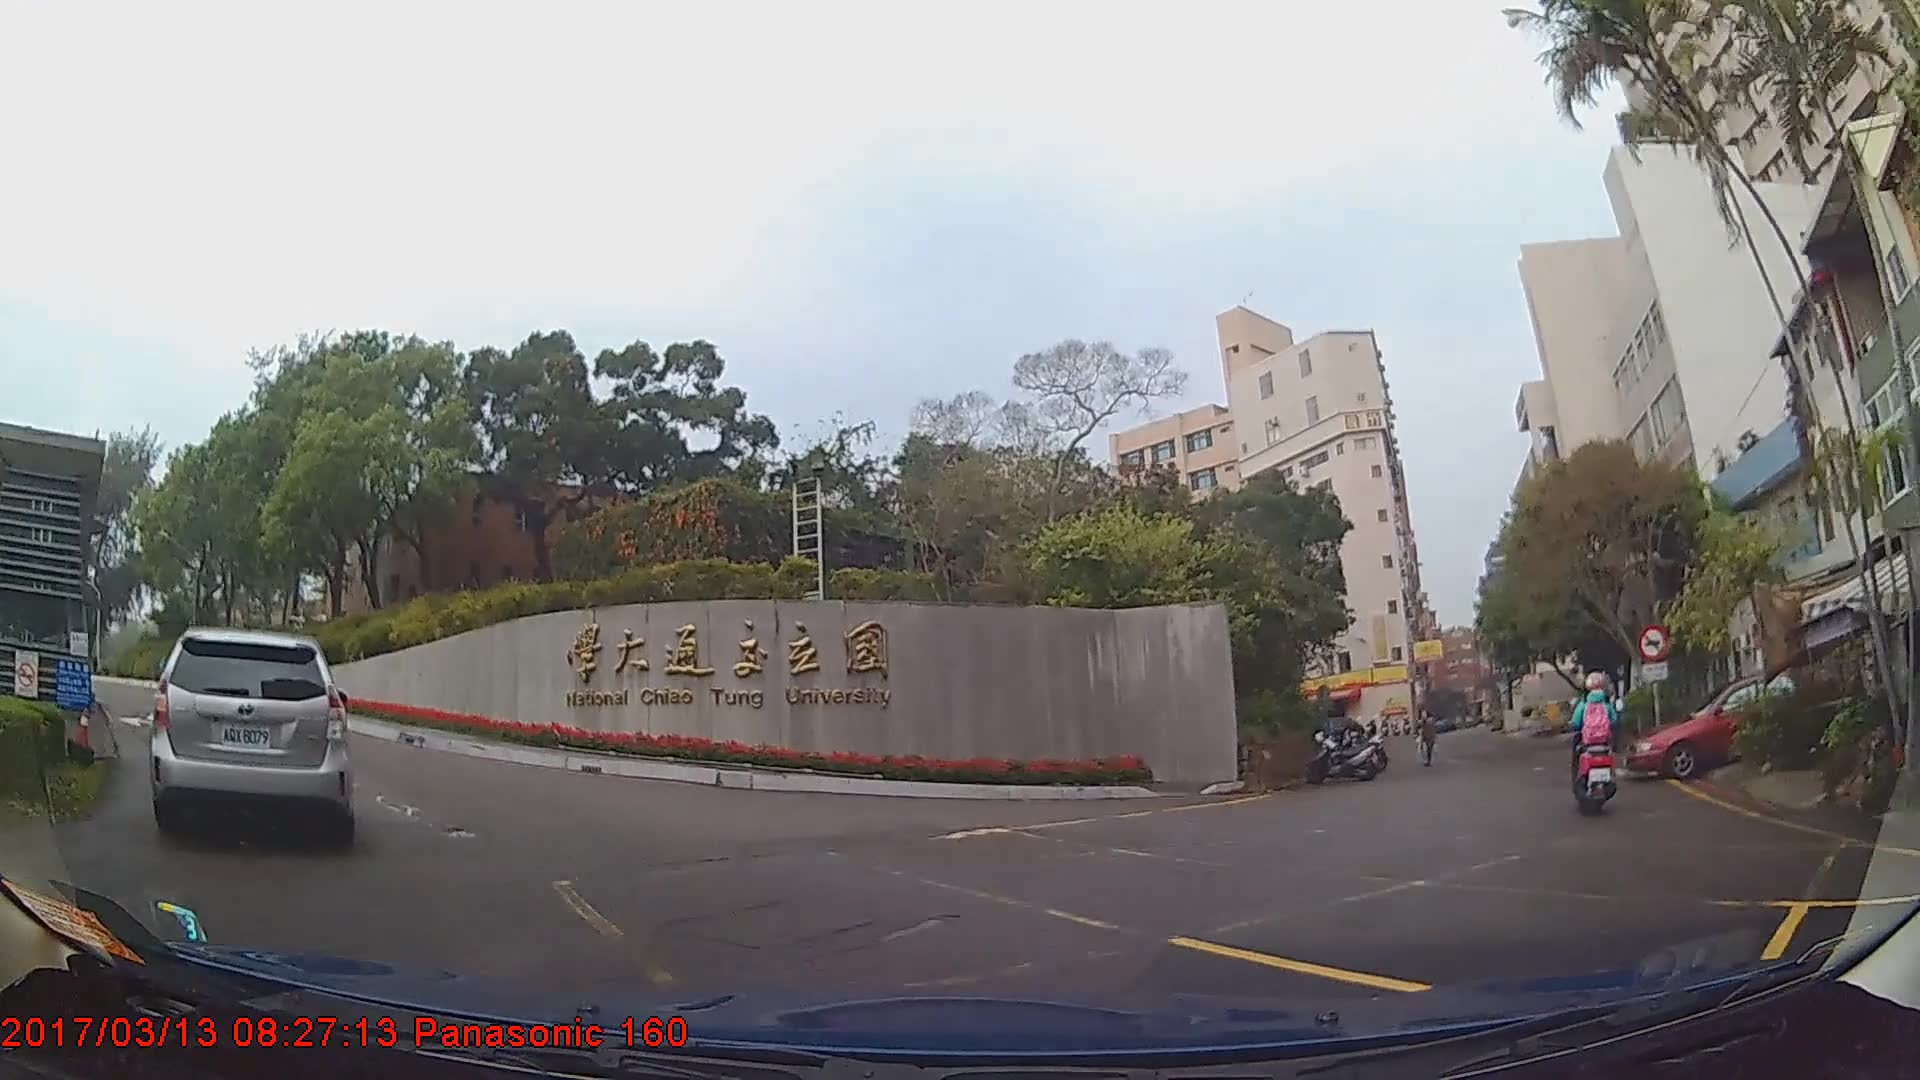pedestrian: (1414, 709, 1440, 769)
rider: (1573, 664, 1622, 812)
vehicle: (149, 625, 352, 848), (1624, 673, 1833, 778)
